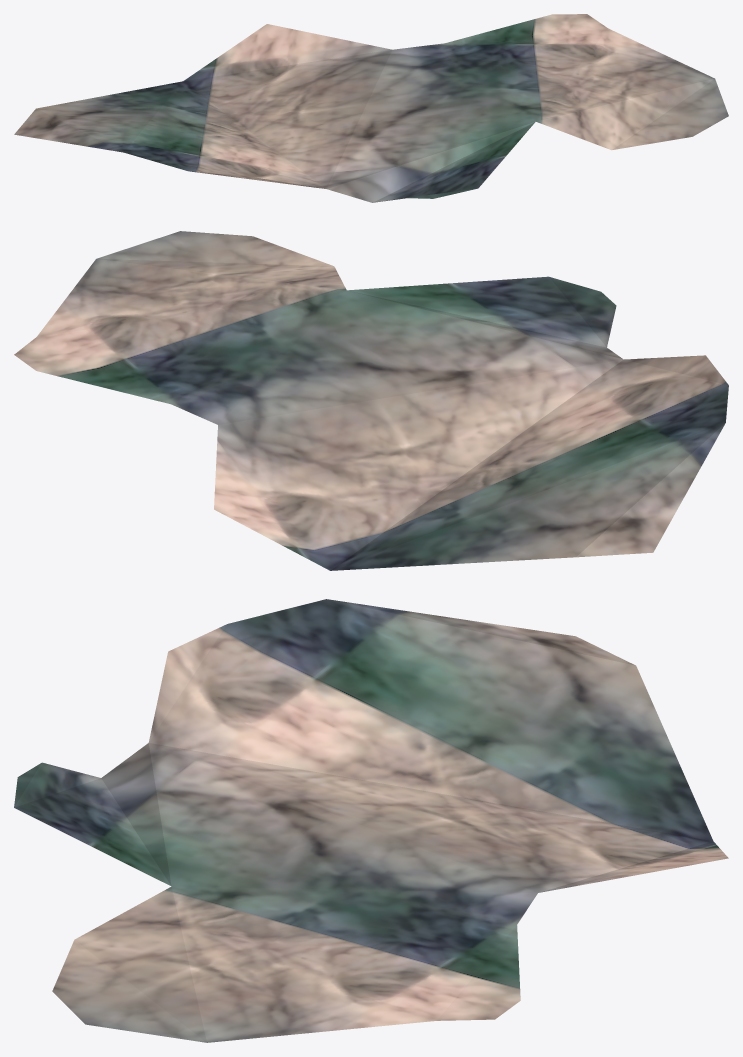
File: Ridge_8_Top.gltf
The picture shows the model from 3 angles, top to bottom: view 1: azimuth 30°, elevation 25°; view 2: azimuth 150°, elevation 25°; view 3: azimuth 270°, elevation 25°; orthographic projection. The views are drawn at different scales.
Visible parts, largest first — view 1: Ridge_8_Top; view 2: Ridge_8_Top; view 3: Ridge_8_Top.
Boxes of the visible parts, x1,y1,x2,y2 form: Ridge_8_Top: (14, 14, 728, 202); Ridge_8_Top: (14, 231, 728, 570); Ridge_8_Top: (14, 599, 728, 1042).
Bounding box in the file's own units: 59.58 × 6.99 × 43.23.
1 material, 1 textured.
